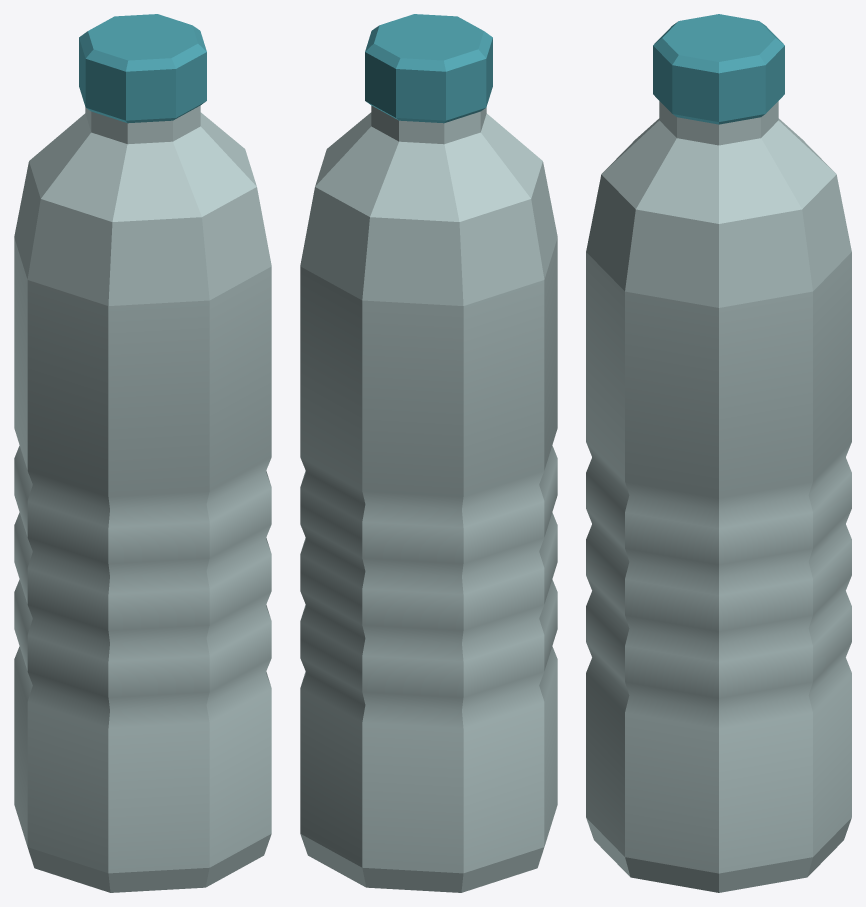
Rendered from bottle.FBX.
3 renders of one model, left to right at view 1: azimuth 30°, elevation 25°; view 2: azimuth 150°, elevation 25°; view 3: azimuth 270°, elevation 25°, orthographic.
Visible parts, largest first — view 1: Bottle, Lid; view 2: Bottle, Lid; view 3: Bottle, Lid.
Part boxes in pixels (<box>): Bottle: <box>14,105,271,892</box>; Lid: <box>79,14,206,123</box>; Bottle: <box>300,105,557,892</box>; Lid: <box>365,14,492,123</box>; Bottle: <box>586,101,851,892</box>; Lid: <box>653,14,784,124</box>.
Bounding box in the file's own units: 21.4 × 71.23 × 21.4.
